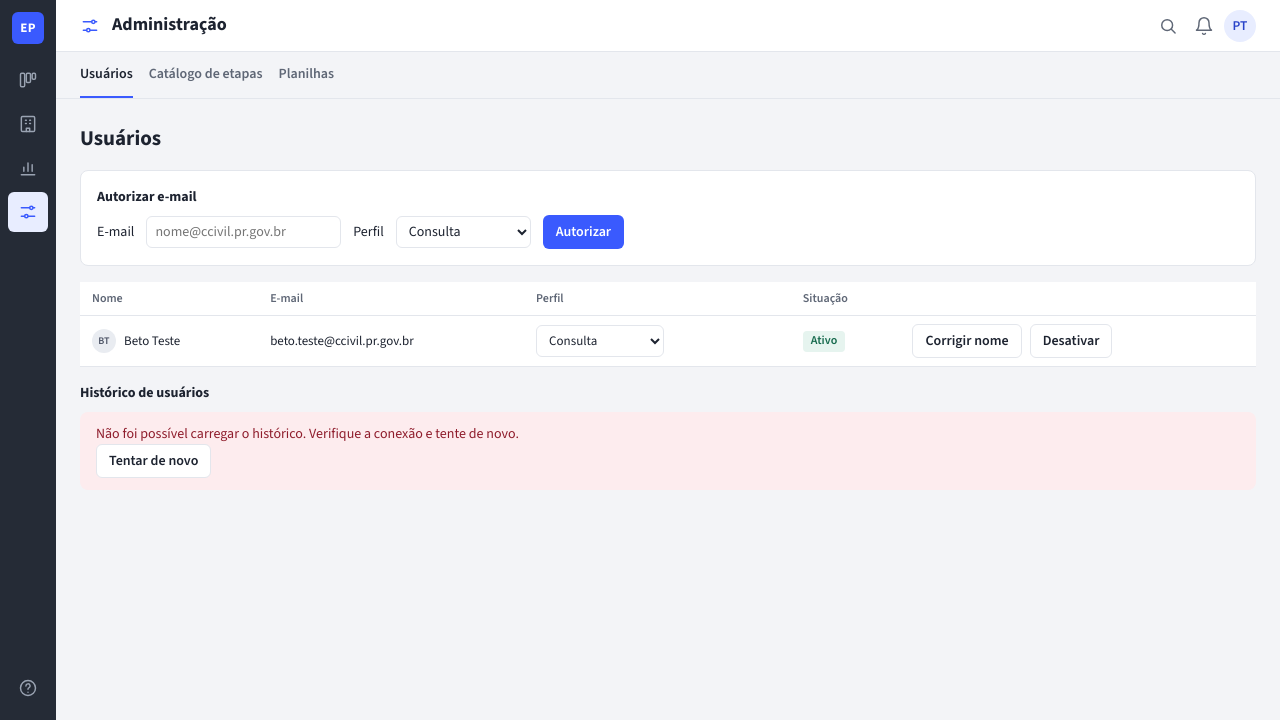
se o histórico falha, mostra o erro e recupera com Tentar de novo
Expected: the text "Não foi possível carregar o histórico. Verifique a conexão e tente de novo." is shown, [96,424,519,444]
Click the button "Tentar de novo": (154, 461) [96,444,211,478]
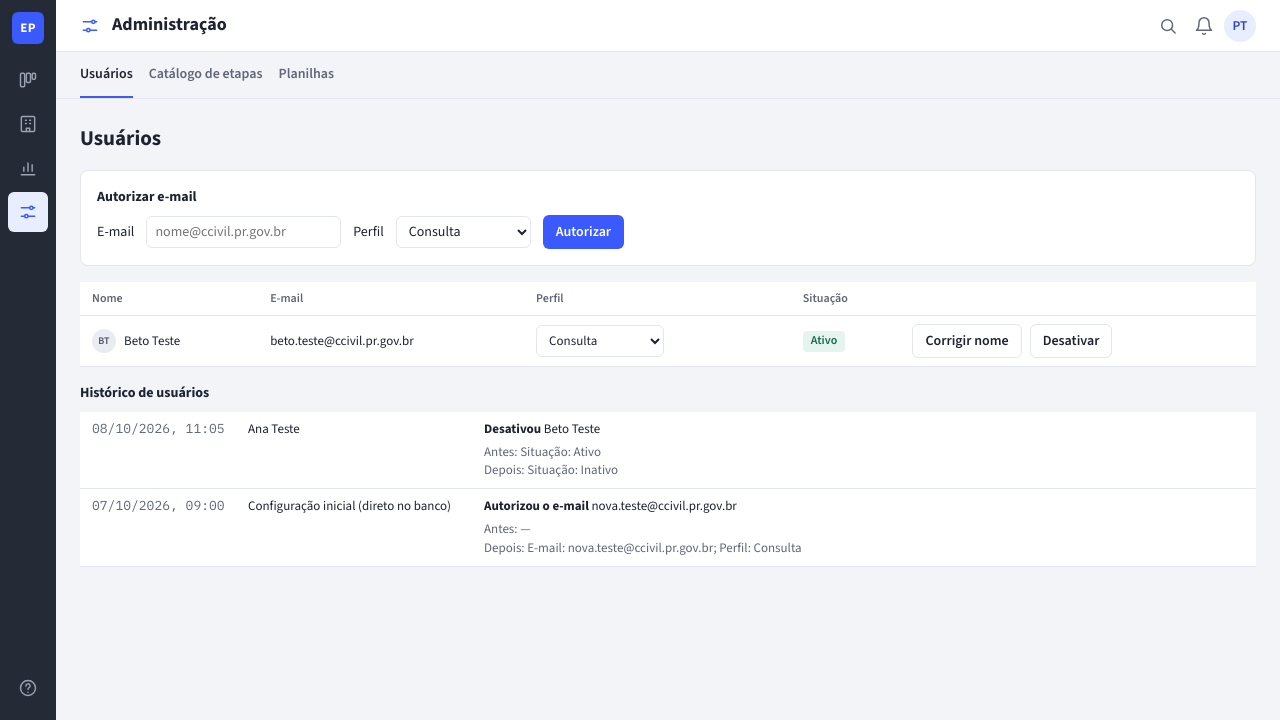
Result: the text "Desativou" is shown at [484,420,541,438]
